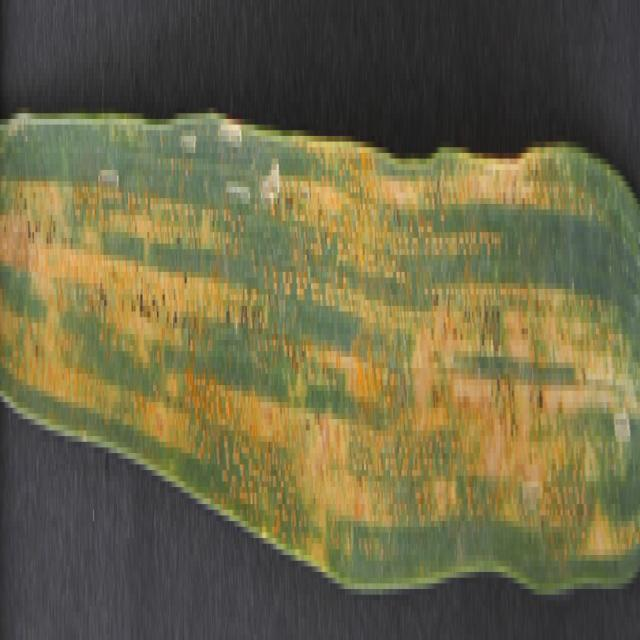leaf rust: (1, 113, 640, 589)
